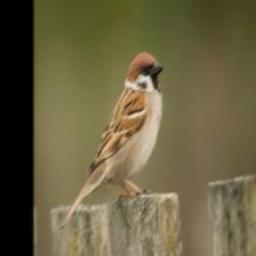Sparrow: (62, 51, 164, 229)
